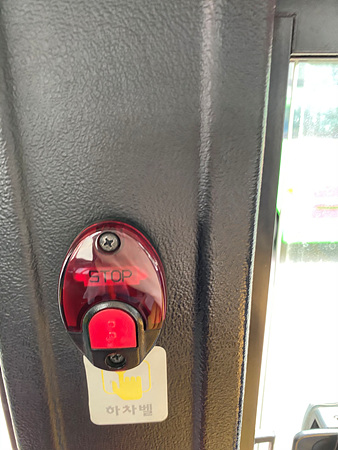bell: (59, 220, 168, 373)
